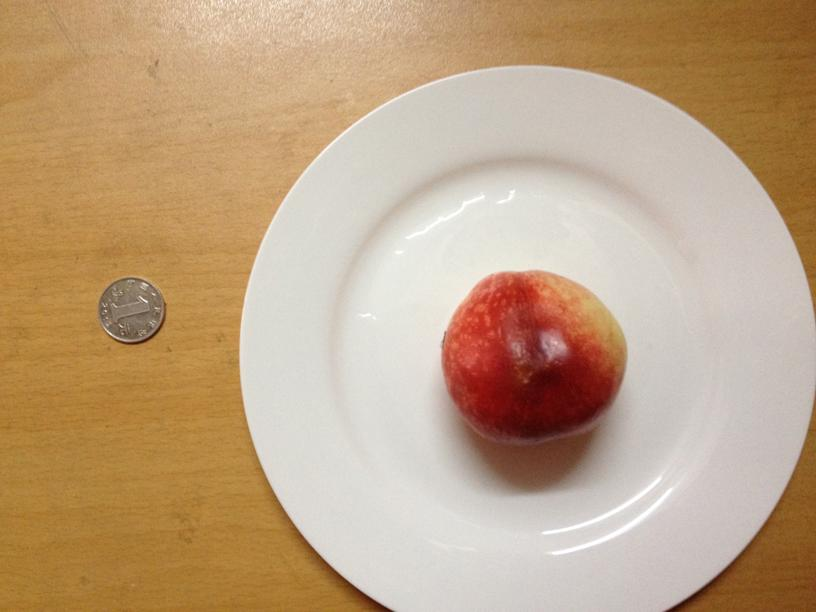coin: (92, 279, 166, 341)
peach: (438, 272, 629, 441)
